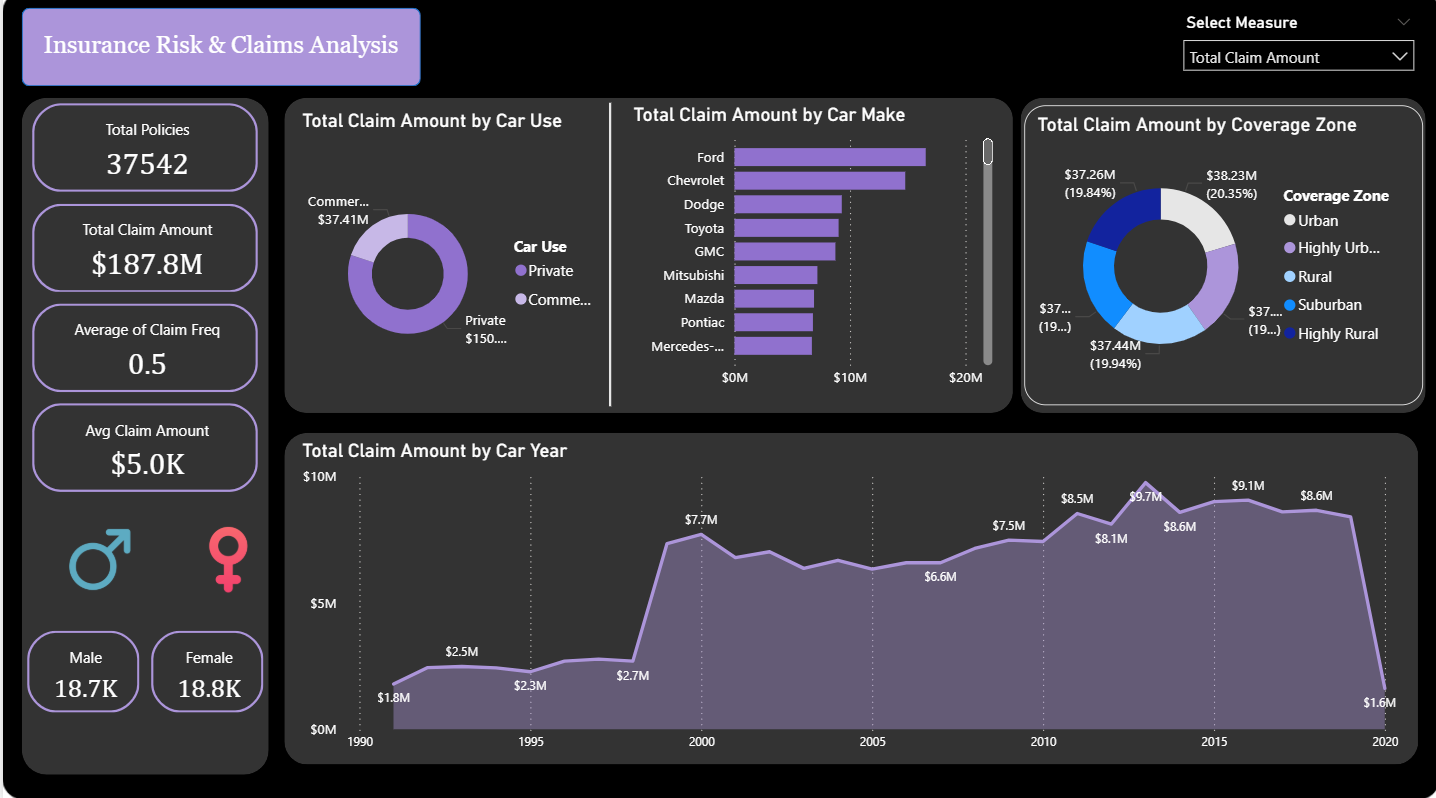

This screenshot's page, from the dashboard's own definition file:
{"tool":"powerbi","page":{"name":"Page 1","canvas":[1280,720],"ordinal":0},"visuals":[{"type":"shape","box":[16.5,12.3,355.4,70],"z":0},{"type":"textbox","box":[31.6,28.8,340.3,37],"z":1000},{"type":"shape","box":[16.2,92,220,602.8],"z":2000},{"type":"cardVisual","fields":{"Data":["_Measure.Total Policies","_Measure.Total Claim Amount","Avg(insurance_data_car.Claim Freq)","_Measure.Avg Claim Amount"]},"box":[21.1,92,211.3,358],"z":3000},{"type":"cardVisual","fields":{"Data":["_Measure.Male Count","_Measure.Female Count"]},"box":[16.2,561.8,221.2,83.3],"z":4000},{"type":"image","box":[52,466.4,68.3,74.3],"z":5000},{"type":"image","box":[166.4,469.3,69.8,68.3],"z":6000},{"type":"shape","box":[251,92.1,649.1,280.7],"z":7000},{"type":"donutChart","fields":{"Y":["_Measure.Total Claim Amount"],"Category":["insurance_data_car.Car Use"]},"box":[261.4,102.5,279.2,274.8],"z":8000},{"type":"slicer","fields":{"Values":["Select Measure.Select Measure"]},"box":[1041.2,11.9,225.8,60.9],"z":9000},{"type":"clusteredBarChart","fields":{"Y":["_Measure.Total Claim Amount"],"Category":["insurance_data_car.Car Make"]},"box":[557,96.5,329.7,262.9],"z":10000},{"type":"shape","box":[906,92.1,360.9,280.7],"z":11000},{"type":"donutChart","fields":{"Y":["_Measure.Total Claim Amount"],"Category":["insurance_data_car.Coverage Zone"]},"box":[909,99.5,355,267.3],"z":12000},{"type":"shape","box":[251,390.6,1010,295.6],"z":13000},{"type":"areaChart","fields":{"Y":["_Measure.Total Claim Amount"],"Category":["insurance_data_car.Car Year"]},"box":[261.4,396.6,986.2,286.7],"z":14000},{"type":"shape","box":[510.9,96.5,59.4,270.3],"z":15000}]}

Visuals, with their boxes in screenshot pixels (x1, y1, x2, y2), scaled from the page's 1280x720 canvas onto the 1436x798 screenshot:
shape: pyautogui.locateOnScreen(19, 14, 417, 91)
textbox: pyautogui.locateOnScreen(35, 32, 417, 73)
shape: pyautogui.locateOnScreen(18, 102, 265, 770)
cardVisual - _Measure.Total Policies x _Measure.Total Claim Amount: pyautogui.locateOnScreen(24, 102, 261, 499)
cardVisual - _Measure.Male Count x _Measure.Female Count: pyautogui.locateOnScreen(18, 623, 266, 715)
image: pyautogui.locateOnScreen(58, 517, 135, 599)
image: pyautogui.locateOnScreen(187, 520, 265, 596)
shape: pyautogui.locateOnScreen(282, 102, 1010, 413)
donutChart - _Measure.Total Claim Amount x insurance_data_car.Car Use: pyautogui.locateOnScreen(293, 114, 606, 418)
slicer - Select Measure.Select Measure: pyautogui.locateOnScreen(1168, 13, 1421, 81)
clusteredBarChart - _Measure.Total Claim Amount x insurance_data_car.Car Make: pyautogui.locateOnScreen(625, 107, 995, 398)
shape: pyautogui.locateOnScreen(1016, 102, 1421, 413)
donutChart - _Measure.Total Claim Amount x insurance_data_car.Coverage Zone: pyautogui.locateOnScreen(1020, 110, 1418, 407)
shape: pyautogui.locateOnScreen(282, 433, 1415, 761)
areaChart - _Measure.Total Claim Amount x insurance_data_car.Car Year: pyautogui.locateOnScreen(293, 440, 1400, 757)
shape: pyautogui.locateOnScreen(573, 107, 640, 407)
